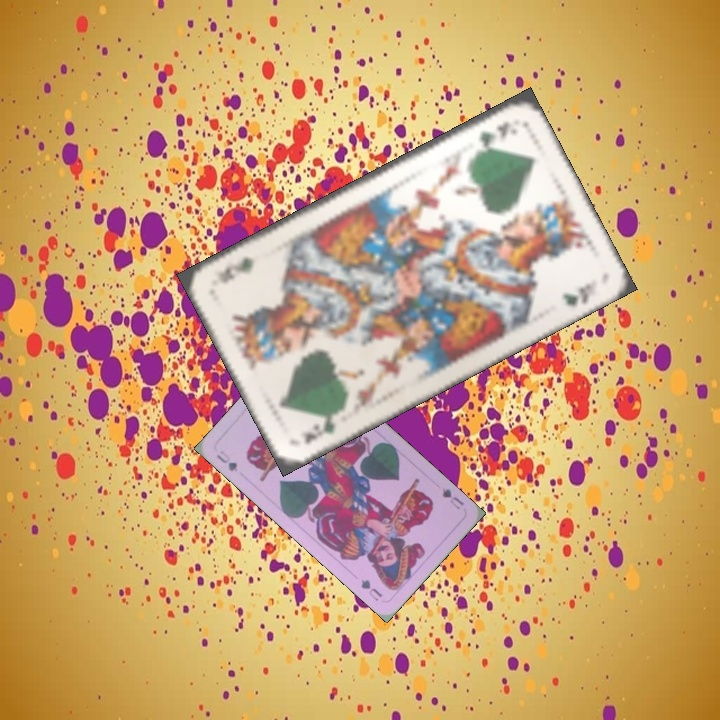GK: (299, 406, 344, 447), (474, 117, 512, 150)
GU: (438, 484, 466, 512), (212, 446, 240, 474)
